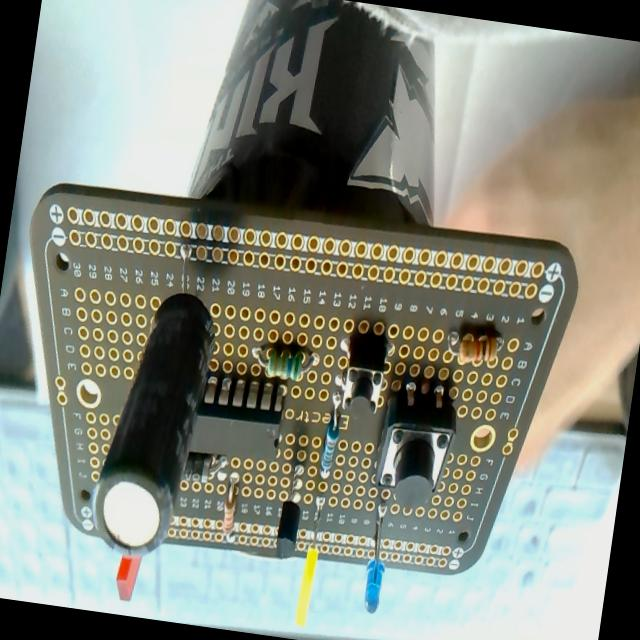Electrolytic capacitor: (90, 290, 218, 560)
IC: (194, 370, 288, 458)
diode: (168, 432, 232, 496)
led: (294, 486, 329, 626), (360, 502, 395, 616), (104, 546, 144, 605)
resistor: (248, 338, 318, 384), (318, 386, 346, 476), (450, 328, 502, 371), (220, 481, 240, 540)
switch: (371, 382, 462, 504), (336, 330, 390, 420)
transistor: (274, 464, 308, 558)
